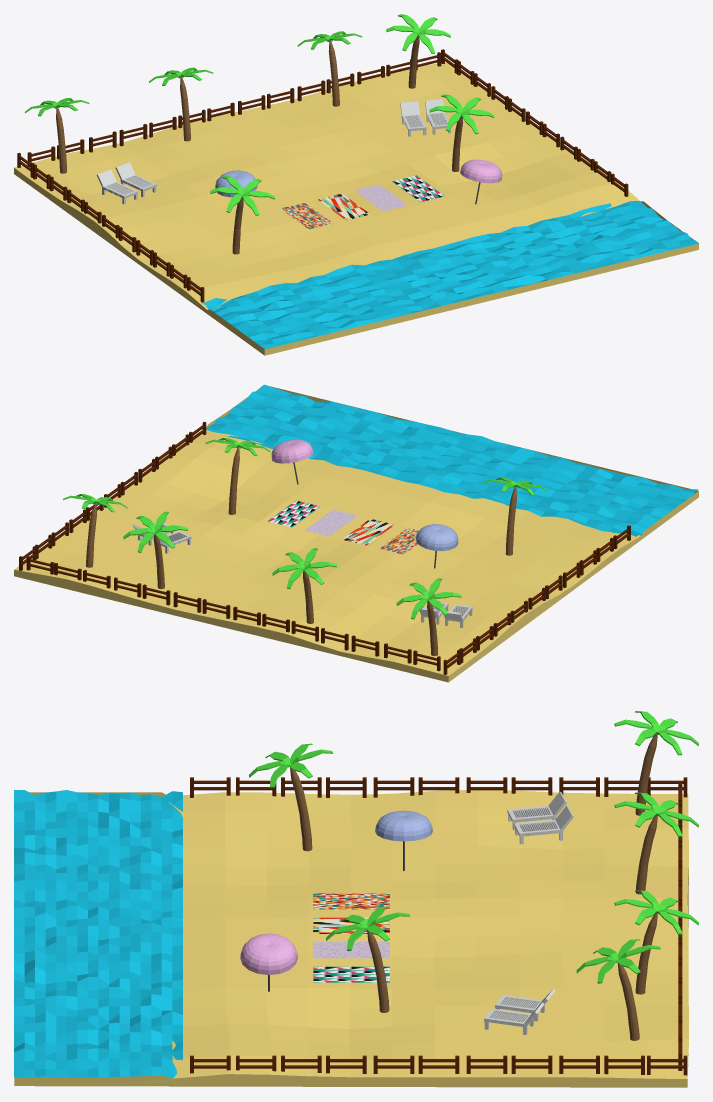
The model's file is beach.glb.
The picture shows the model from 3 angles, top to bottom: view 1: azimuth 30°, elevation 25°; view 2: azimuth 150°, elevation 25°; view 3: azimuth 270°, elevation 25°; orthographic projection. The views are drawn at different scales.
Parts seen in each view (by area): view 1: Floor, Water, Palm5, Palm2, Palm1, Palm0, Palm3, Palm4, Umbrella1, Towel1, Towel2, Towel4 (+6 smaller); view 2: Floor, Water, Palm3, Palm0, Palm4, Umbrella2, Palm5, Palm2, Umbrella1, Palm1, Towel4, Towel1 (+2 smaller); view 3: Floor, Water, Umbrella1, Palm5, Palm2, Palm1, Palm3, Palm4, Palm0, Umbrella2, Towel2, Towel4 (+6 smaller).
Boxes of the visible parts, box(x1,y1,x2,y2) form: Floor: box(14, 62, 698, 355); Water: box(202, 201, 698, 347); Palm5: box(210, 176, 274, 254); Palm2: box(429, 94, 494, 171); Palm1: box(386, 14, 450, 88); Palm0: box(24, 98, 89, 173); Palm3: box(297, 31, 362, 106); Palm4: box(149, 67, 213, 141); Umbrella1: box(460, 159, 502, 204); Towel1: box(317, 193, 370, 220); Towel2: box(280, 202, 333, 229); Towel4: box(392, 175, 444, 202); Floor: box(14, 386, 698, 682); Water: box(206, 384, 698, 536); Palm3: box(123, 511, 187, 589); Palm0: box(396, 578, 461, 655); Palm4: box(272, 548, 336, 623); Umbrella2: box(416, 524, 458, 568); Palm5: box(483, 477, 547, 555); Palm2: box(205, 438, 270, 514); Umbrella1: box(271, 439, 313, 484); Palm1: box(63, 494, 127, 567); Towel4: box(267, 500, 320, 527); Towel1: box(342, 518, 394, 545); Floor: box(14, 790, 688, 1087); Water: box(14, 790, 182, 1078); Umbrella1: box(240, 933, 297, 991); Palm5: box(249, 743, 333, 851); Palm2: box(326, 906, 410, 1012); Palm1: box(576, 939, 660, 1040); Palm3: box(614, 890, 698, 994); Palm4: box(614, 792, 698, 894); Palm0: box(614, 711, 698, 815); Umbrella2: box(375, 810, 432, 870); Towel2: box(313, 893, 389, 909); Towel4: box(313, 966, 389, 982).
Size of what is drawn, in the model's own units: 35.09 by 6.04 by 35.54.
54 materials, 4 textured.
